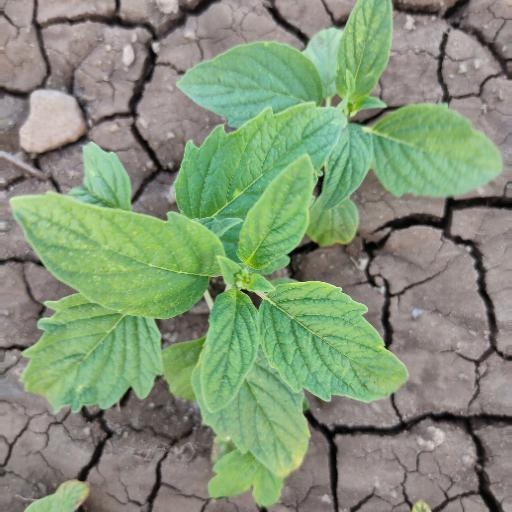crop: (25, 139, 431, 494), (158, 3, 505, 230)
